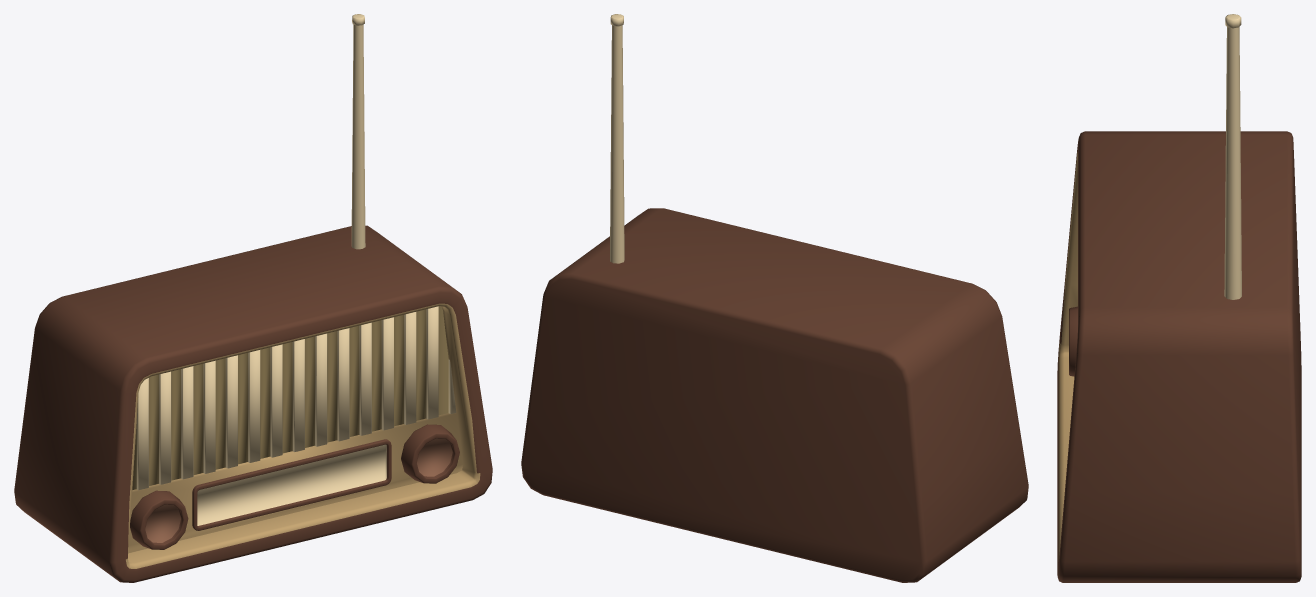
The model's file is Radio.fbx.
The picture shows the model from 3 angles, left to right: view 1: azimuth 30°, elevation 25°; view 2: azimuth 150°, elevation 25°; view 3: azimuth 270°, elevation 25°; orthographic projection. The views are drawn at different scales.
Visible parts, largest first — view 1: Radio; view 2: Radio; view 3: Radio.
Boxes of the visible parts, x1,y1,x2,y2 form: Radio: (14,14,492,582); Radio: (521,14,1028,582); Radio: (1057,14,1301,582).
Size of the model in its own units: 7.17 by 7.92 by 3.26.
